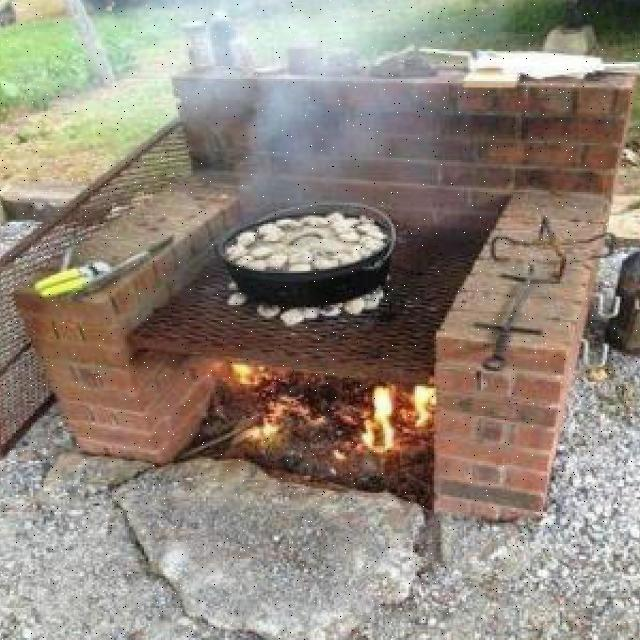fire: (217, 354, 481, 469)
smoke: (182, 0, 442, 226)
